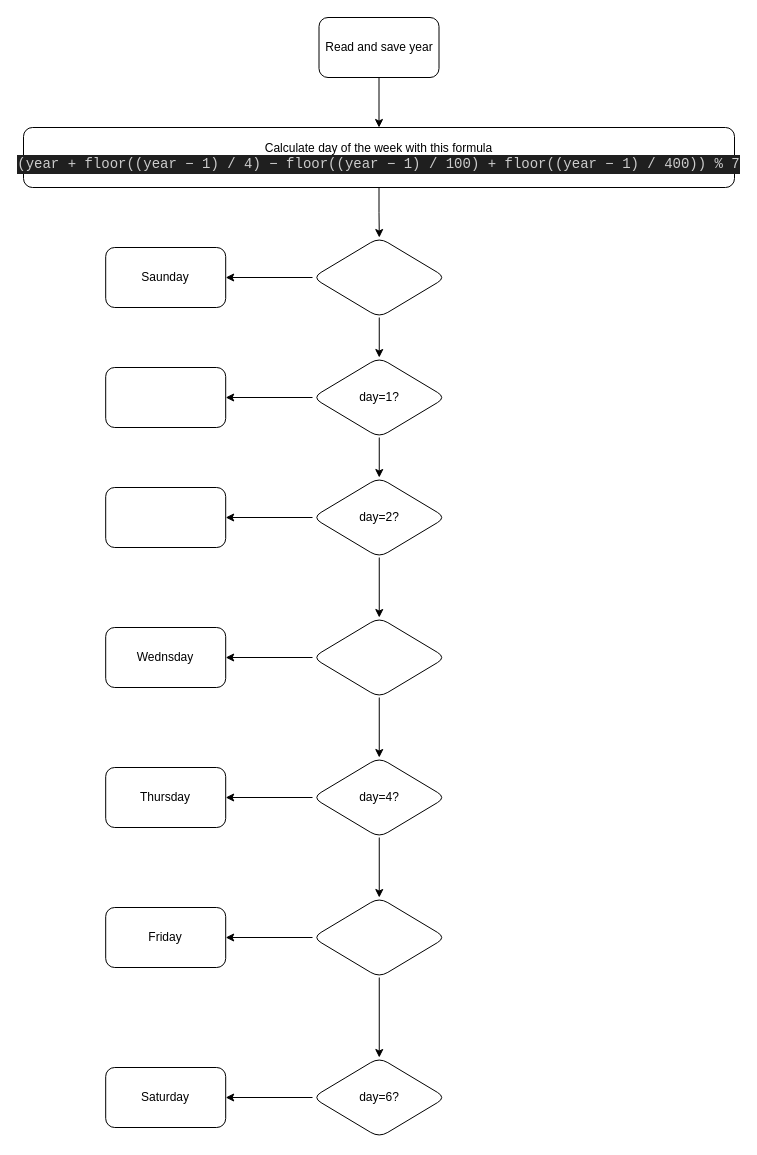
Some shapes in this 757 by 1155 pixel diagram are drawn without their labels. The shapes that lost their labels are listed below. From the top down, each one's box as (x1, y1, x2, y2) in pixels, then its label:
(312, 236, 446, 318): day=0?
(105, 366, 226, 428): Monday
(105, 486, 226, 548): Tuesday
(312, 616, 446, 698): day=3?
(312, 896, 446, 978): day=5?
